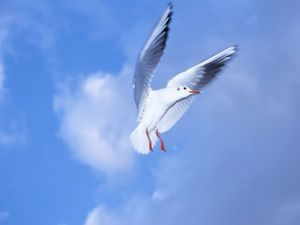bird: (124, 3, 241, 156)
